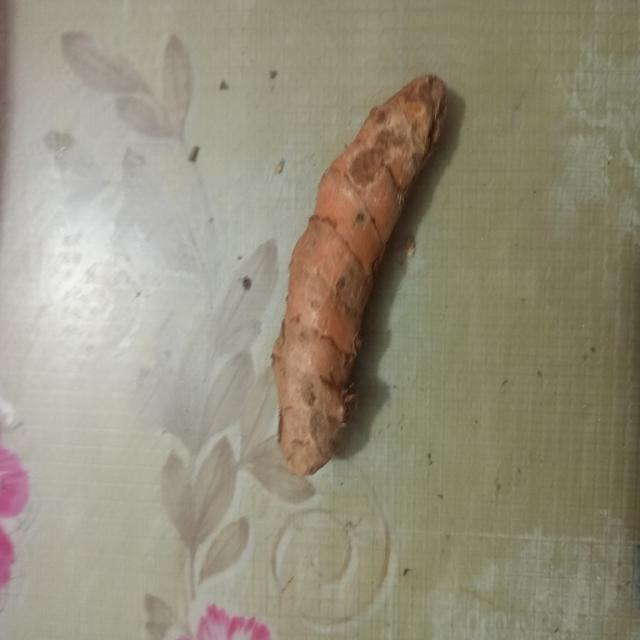ginger: (272, 79, 442, 478)
